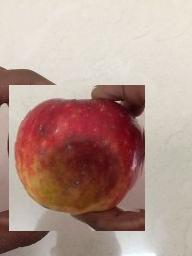Apple Semirotten: (9, 85, 145, 231)
